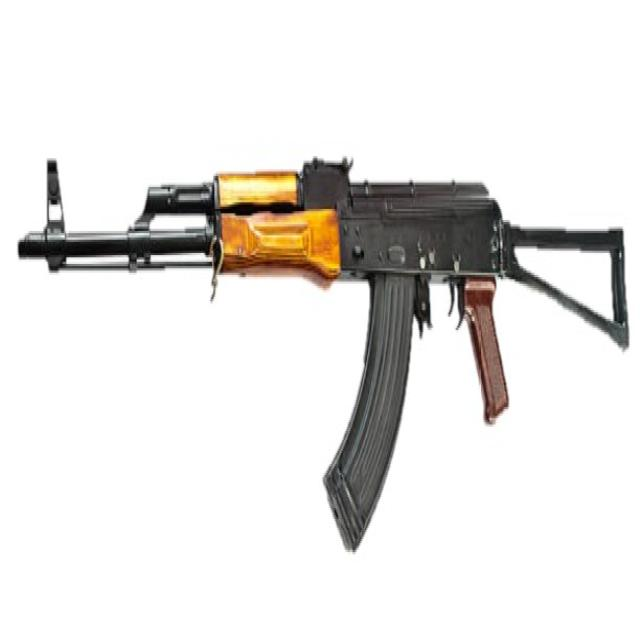rifle: (10, 138, 632, 569)
